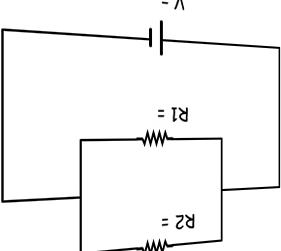resistor: (133, 123, 175, 151), (131, 233, 175, 250)
